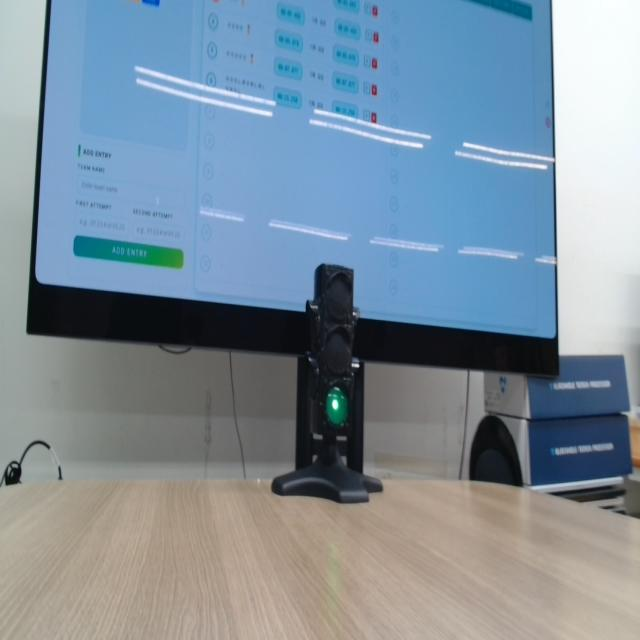green_light: (326, 387, 348, 427)
